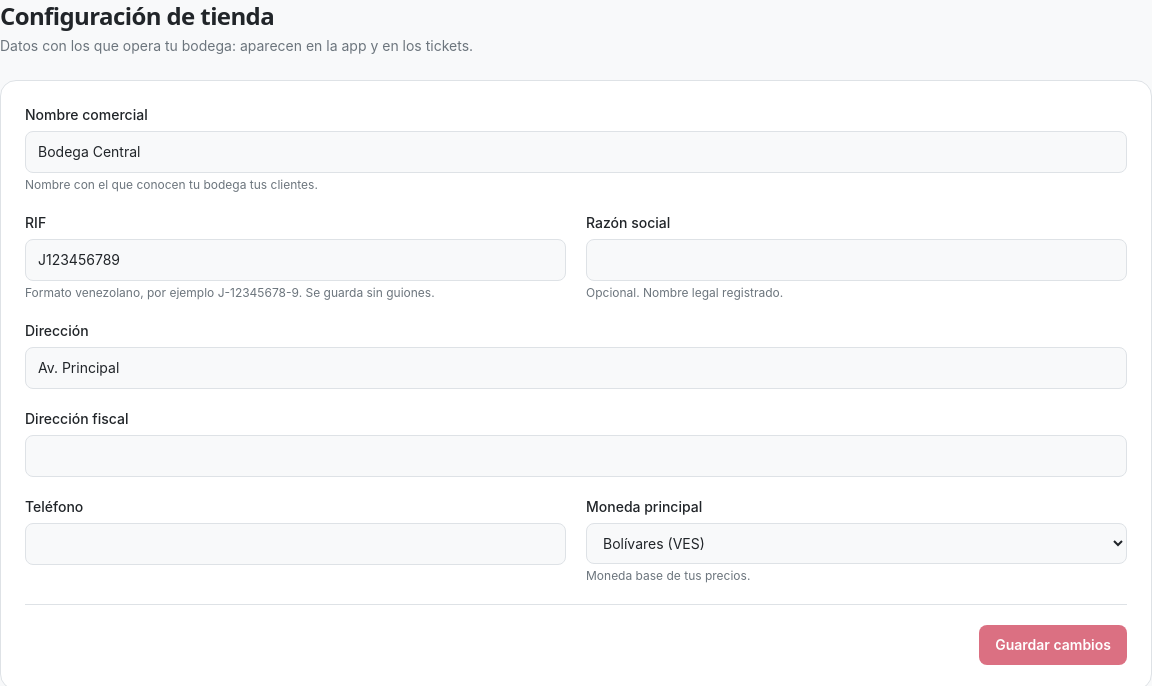
Test: ConfiguracionTiendaPage › shows the server error message when the PUT fails
Replace the text in the field labelled "Nombre comercial" with "Bodega Nueva" at (576, 152), box 25,131 -> 1127,173
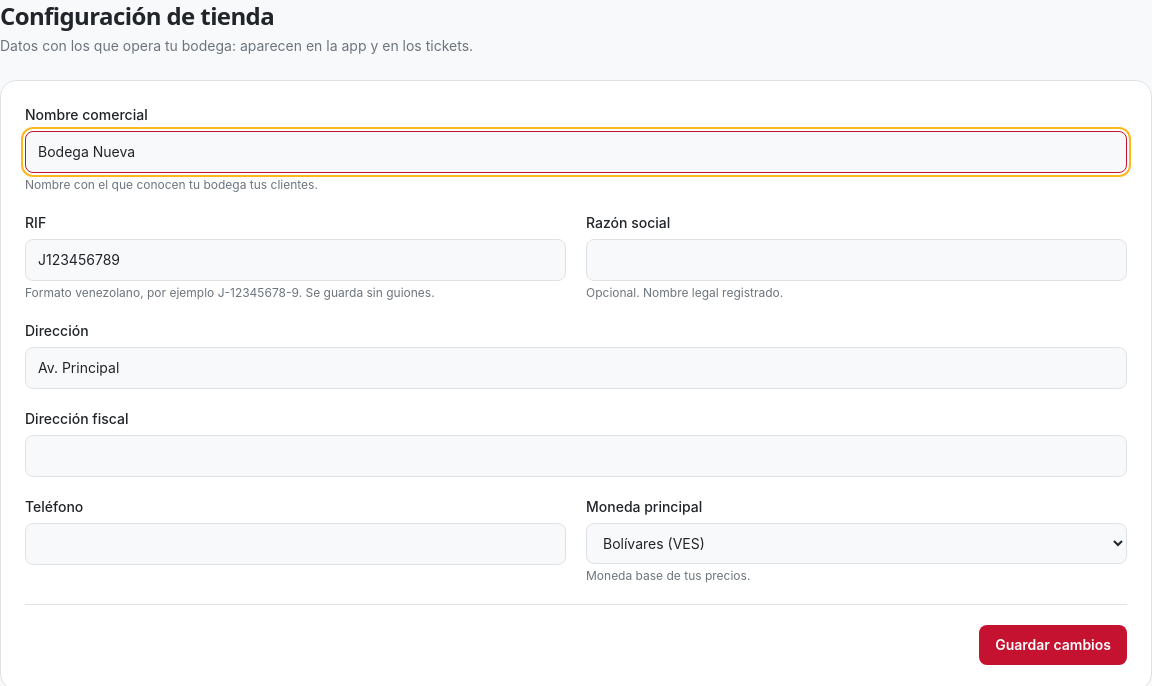
Click the button "Guardar cambios" at (1053, 645), box 979,625 -> 1127,665
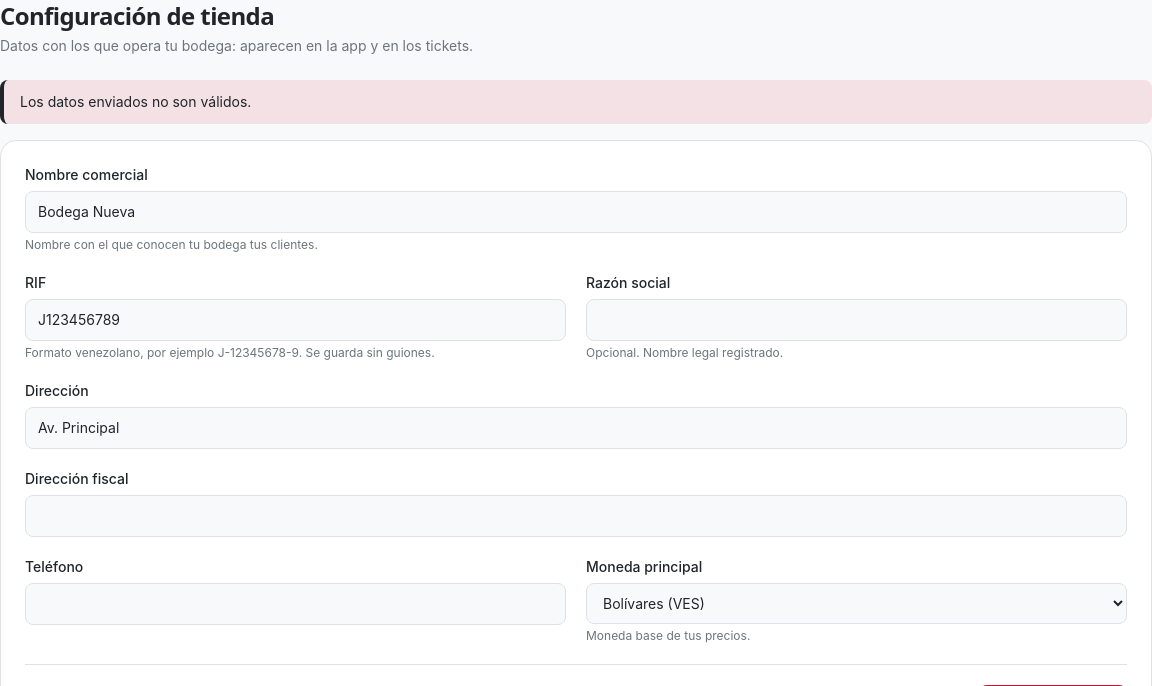
Expected: the text "Los datos enviados no son válidos." is shown, 20,92 -> 251,112
